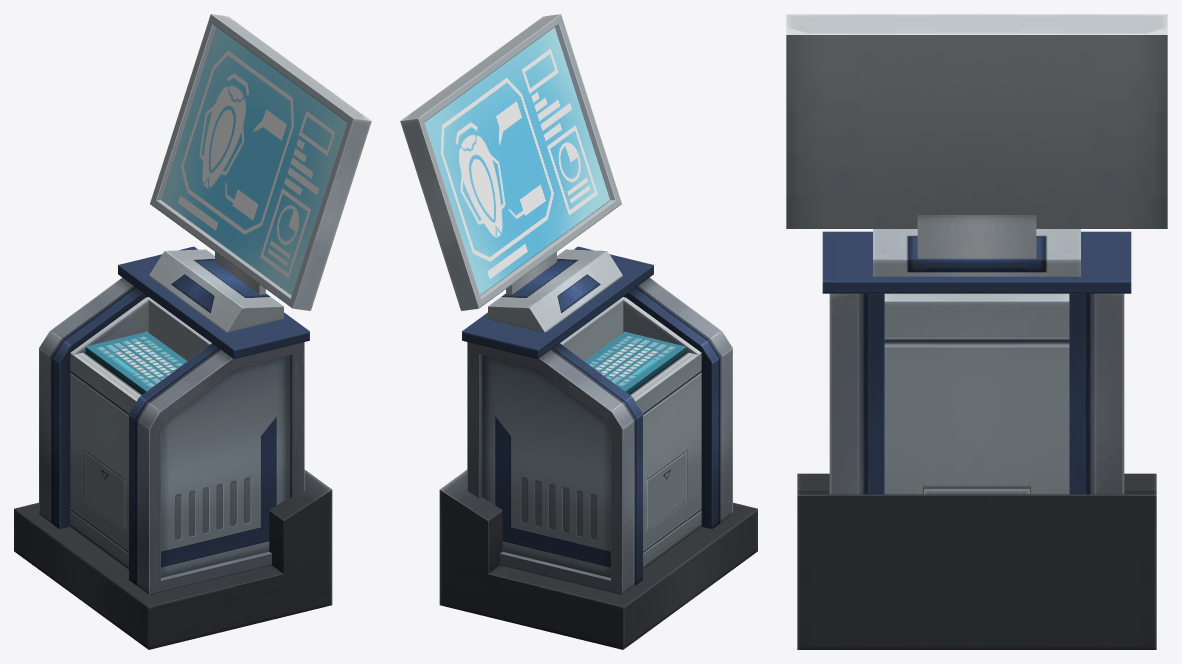
File: my_carrier_01_monitor_01.glb
The picture shows the model from 3 angles, left to right: view 1: azimuth 30°, elevation 25°; view 2: azimuth 150°, elevation 25°; view 3: azimuth 270°, elevation 25°; orthographic projection. The views are drawn at different scales.
Visible parts, largest first — view 1: my_carrier_01_monitor_01; view 2: my_carrier_01_monitor_01; view 3: my_carrier_01_monitor_01.
Part boxes in pixels (x1,y1,x2,y2): my_carrier_01_monitor_01: (14, 14, 371, 649); my_carrier_01_monitor_01: (400, 14, 757, 649); my_carrier_01_monitor_01: (786, 14, 1167, 649).
Size of the model in its own units: 0.00492 by 0.0104 by 0.00556.
1 material, 1 textured.
